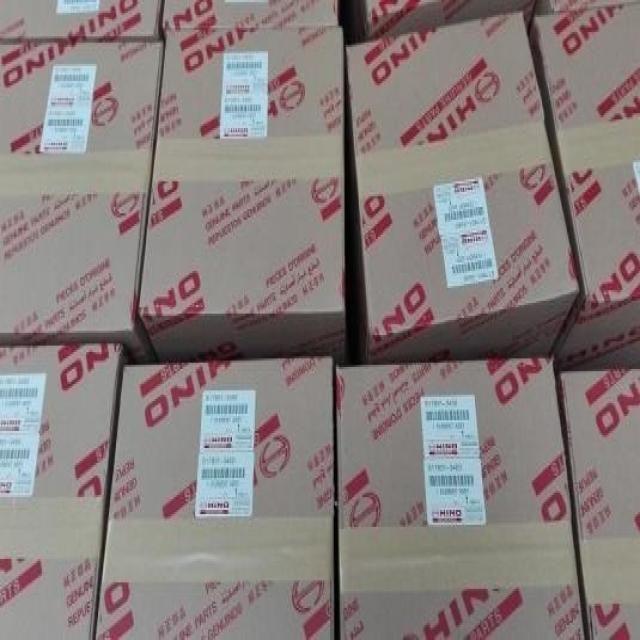box: (346, 10, 578, 359), (135, 22, 346, 362), (337, 354, 587, 636), (94, 353, 339, 638), (0, 38, 165, 362), (530, 0, 639, 362), (0, 344, 125, 638), (556, 365, 639, 638), (361, 2, 535, 38), (1, 3, 162, 41), (158, 2, 337, 27), (535, 1, 622, 13)
